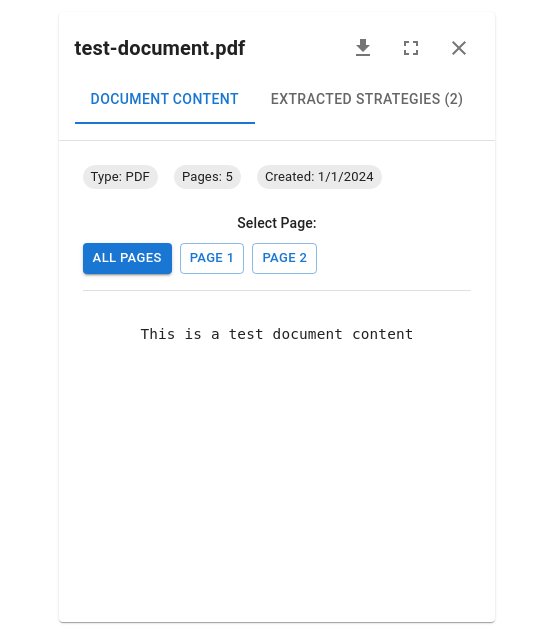
it: DocumentViewer › should display strategy risk levels with appropriate colors
Click the tab "Extracted Strategies (2)": (367, 100) [255,76,479,124]
(page scrolled)
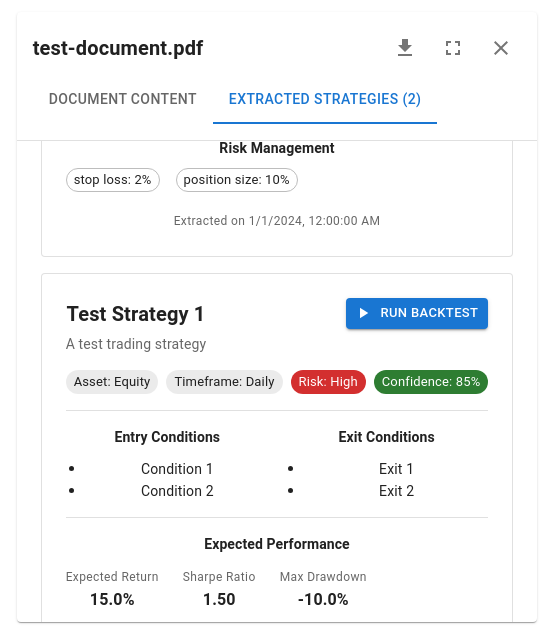
Check: the text "Risk: High" is shown, box [298,374,358,389]
